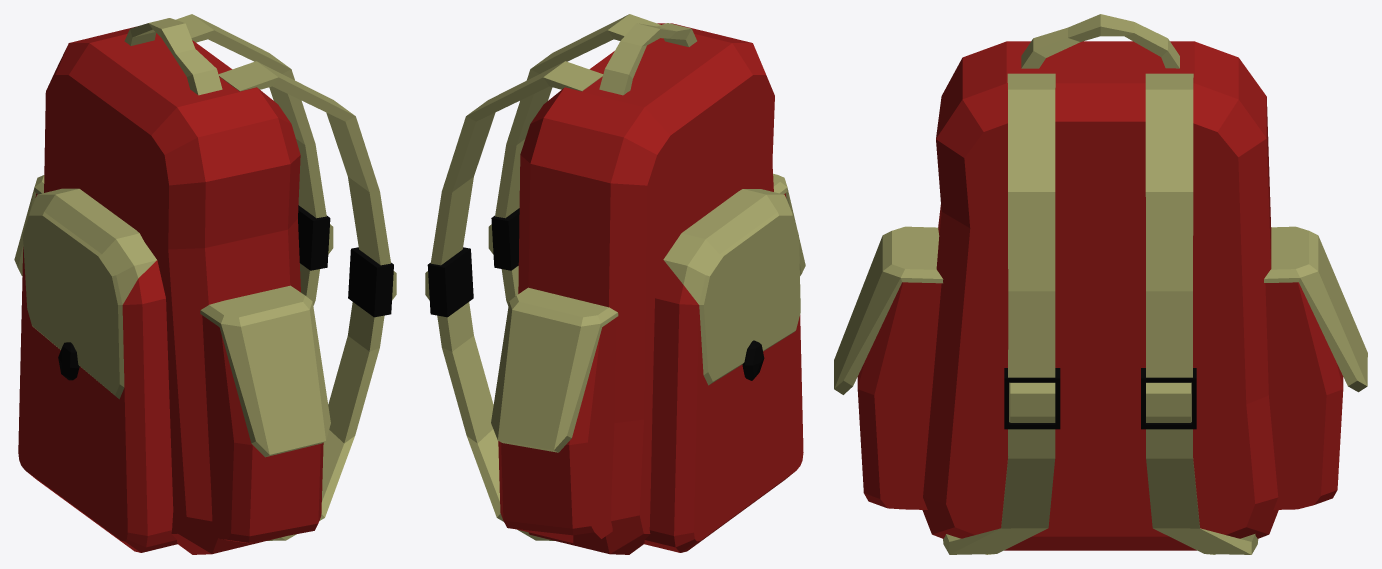
File: backpack.fbx
3 renders of one model, left to right at view 1: azimuth 30°, elevation 25°; view 2: azimuth 150°, elevation 25°; view 3: azimuth 270°, elevation 25°, orthographic. The views are drawn at different scales.
Parts seen in each view (by area): view 1: Backpack_Cube.006; view 2: Backpack_Cube.006; view 3: Backpack_Cube.006.
Part boxes in pixels (x1,y1,x2,y2): Backpack_Cube.006: (14, 14, 396, 554); Backpack_Cube.006: (425, 14, 805, 554); Backpack_Cube.006: (834, 14, 1367, 554).
Size of the model in its own units: 92.59 by 146 by 136.
